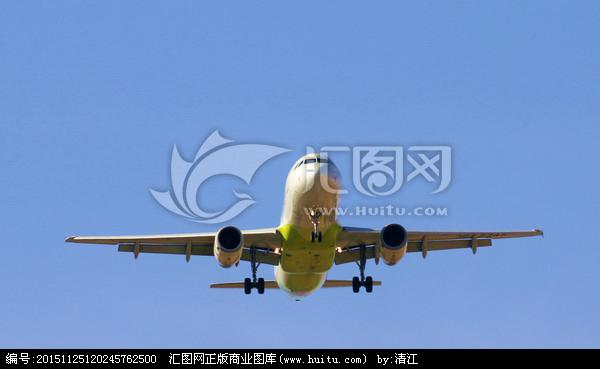airplane: (62, 146, 548, 301)
